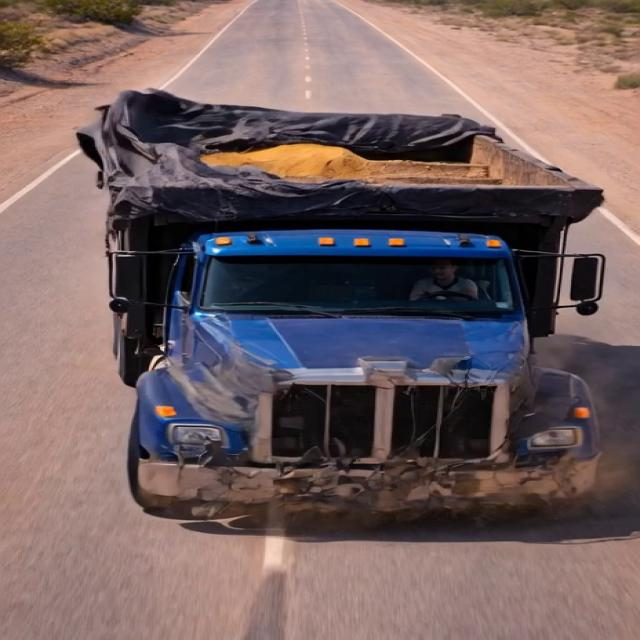Box: (76, 74, 607, 215)
Truck: (60, 40, 616, 528)
